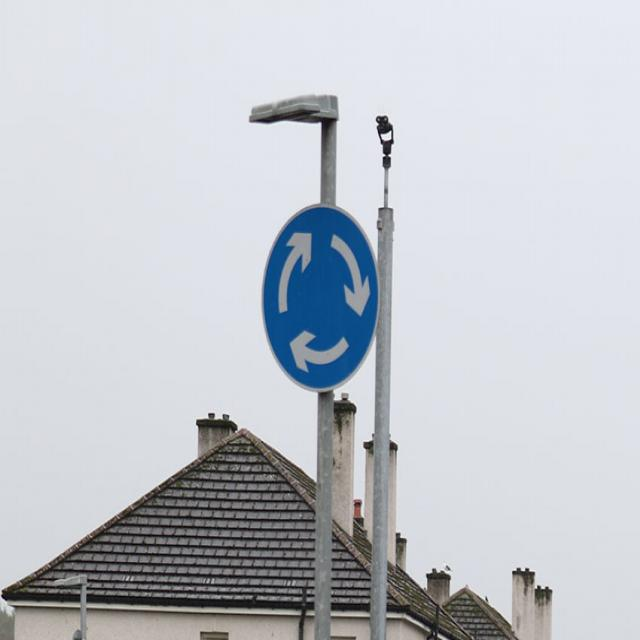roundabout: (262, 200, 382, 398)
